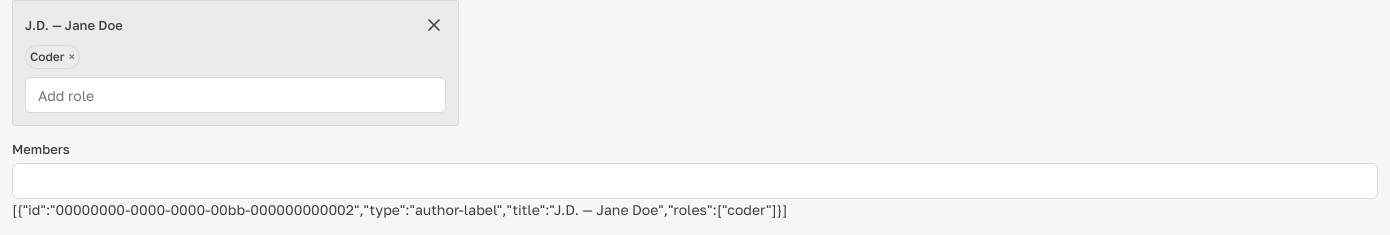
Test: MemberRoleEditor › offers only the roles not chosen yet and says when none matches
This screenshot has width=1390, height=235.
Click the dropdown named "Role for J.D. — Jane Doe" at (236, 95), box x1=25 y1=77 x2=446 y2=113
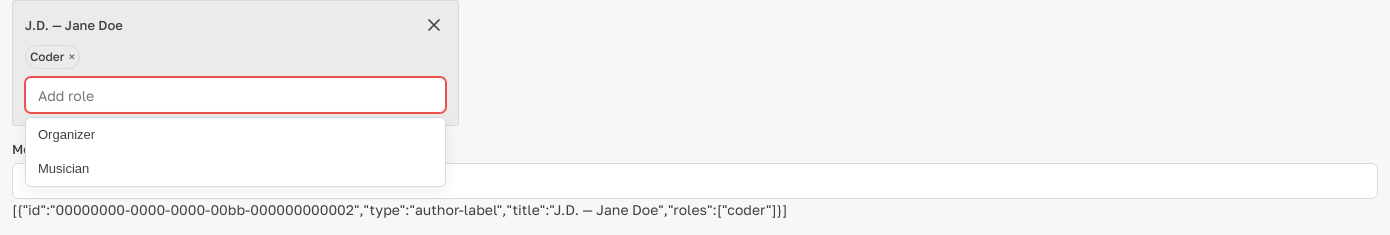
Result: the options read "Organizer", "Musician", in this order at x1=26 y1=118 x2=445 y2=152; x1=26 y1=152 x2=445 y2=186
Type "xyz" into the dropdown named "Role for J.D. — Jane Doe" at (236, 95), box x1=25 y1=77 x2=446 y2=113
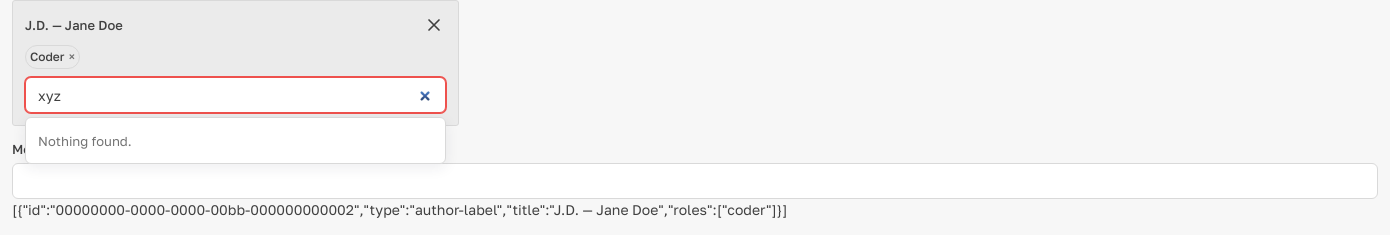
Result: the option is gone
Result: the text "Nothing found." is shown at x1=38 y1=133 x2=132 y2=149
